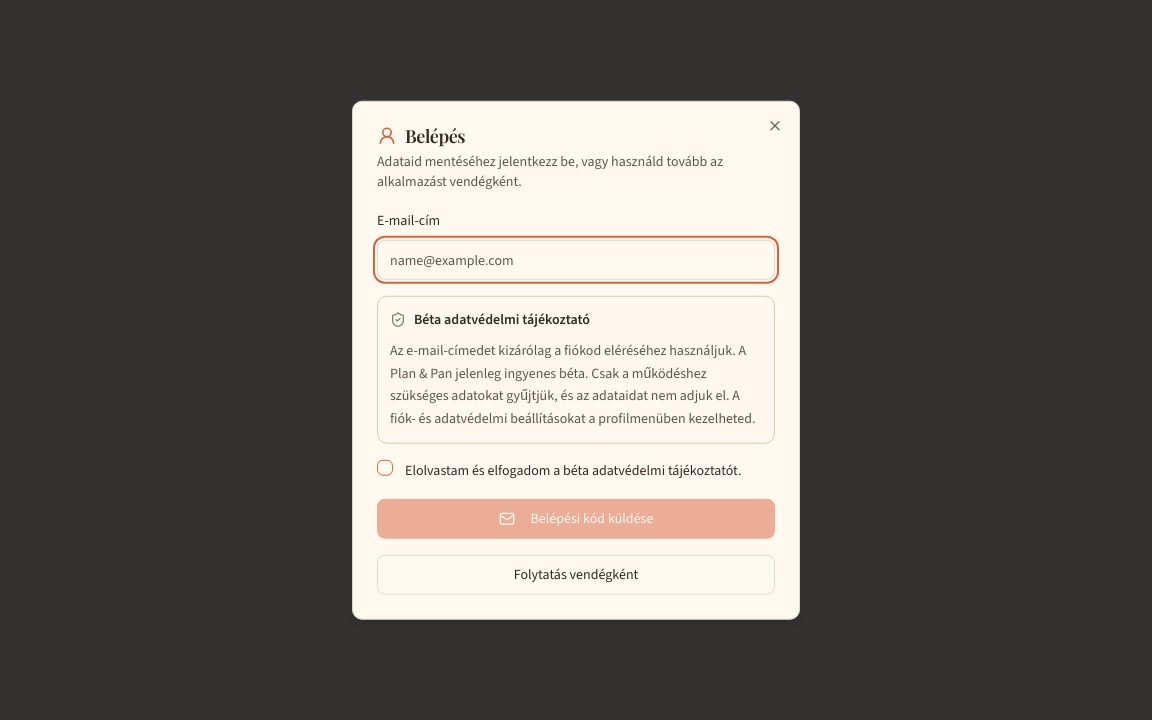
account dialog › requests an email code and keeps verification inside the dialog
Type "tester@example.com" into the field labelled "E-mail-cím". click: (576,260)
box: [377, 240, 775, 280]
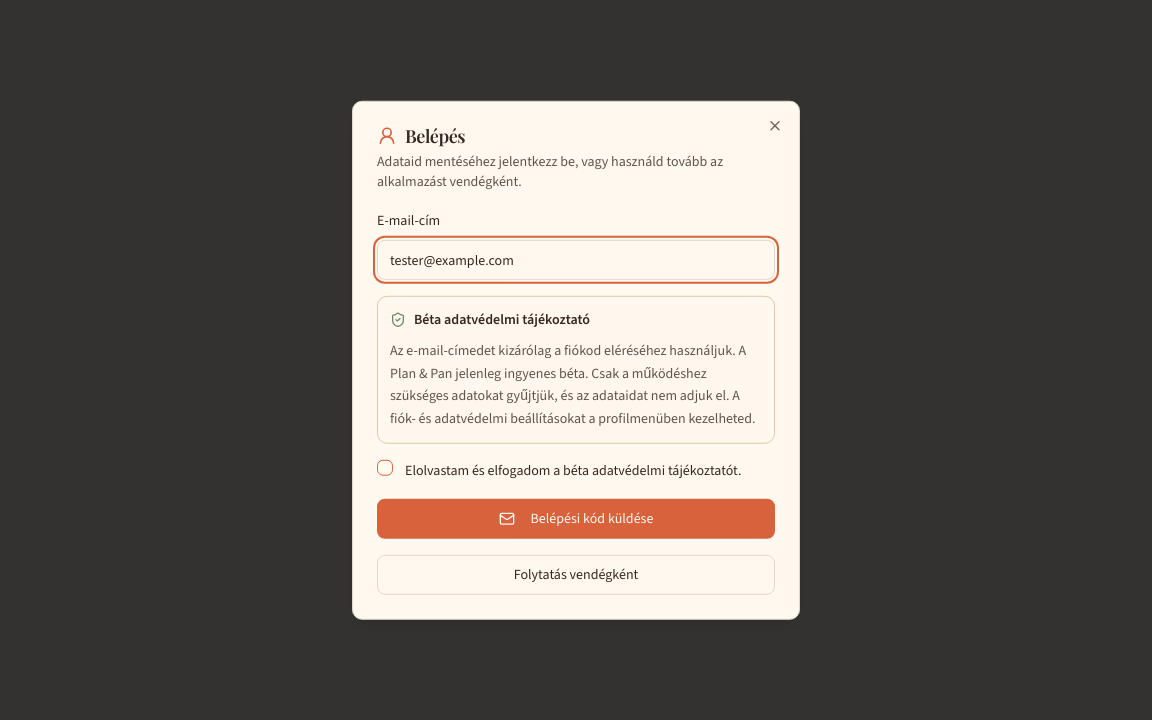
Click the checkbox named "Elolvastam és elfogadom a béta adatvédelmi tájékoztatót.". click: (385,468)
box: [377, 460, 393, 476]
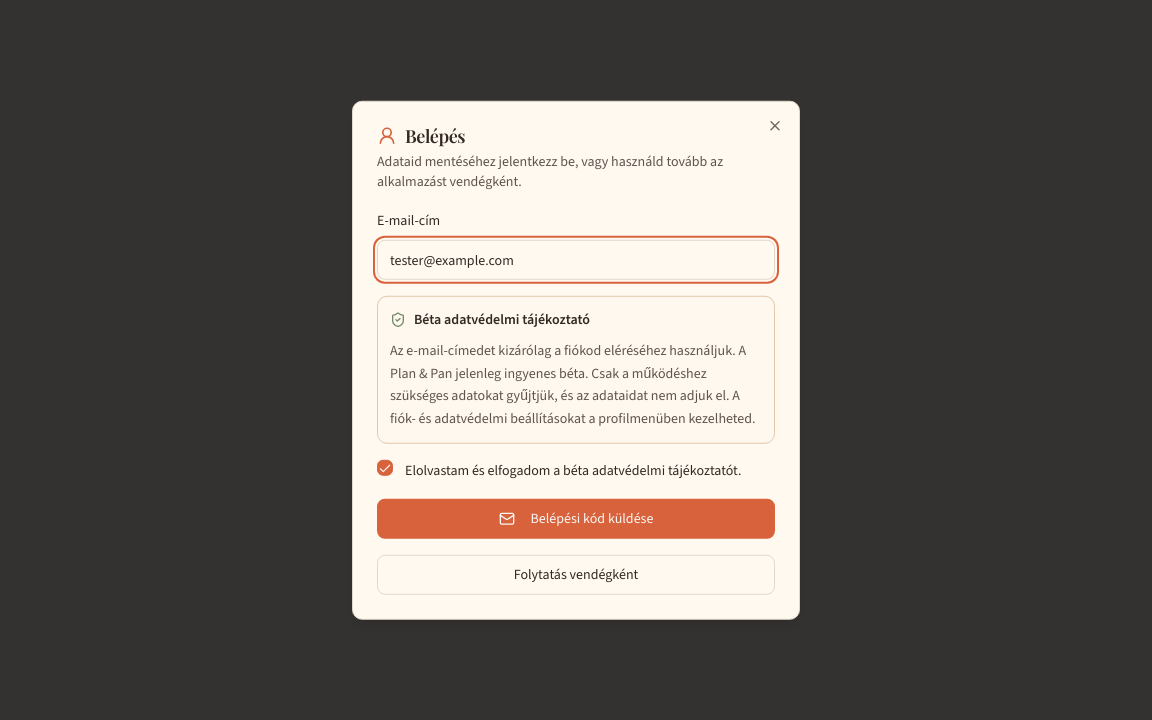
Click the button "Belépési kód küldése". click: (576,518)
box: [377, 498, 775, 538]
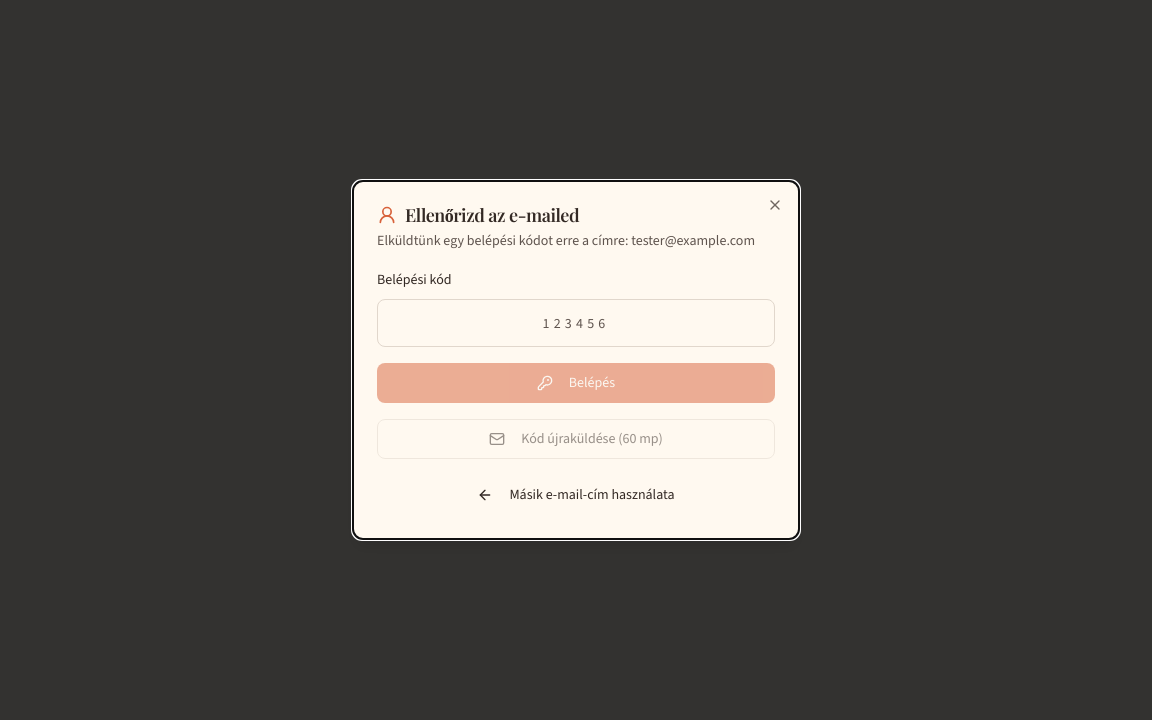
Expected: the heading "Ellenőrizd az e-mailed" is shown, [377, 203, 579, 227]
Expected: the text "tester@example.com" is shown, [377, 231, 755, 250]
Expected: the button "Kód újraküldése (60 mp)" is disabled, [377, 419, 775, 459]
